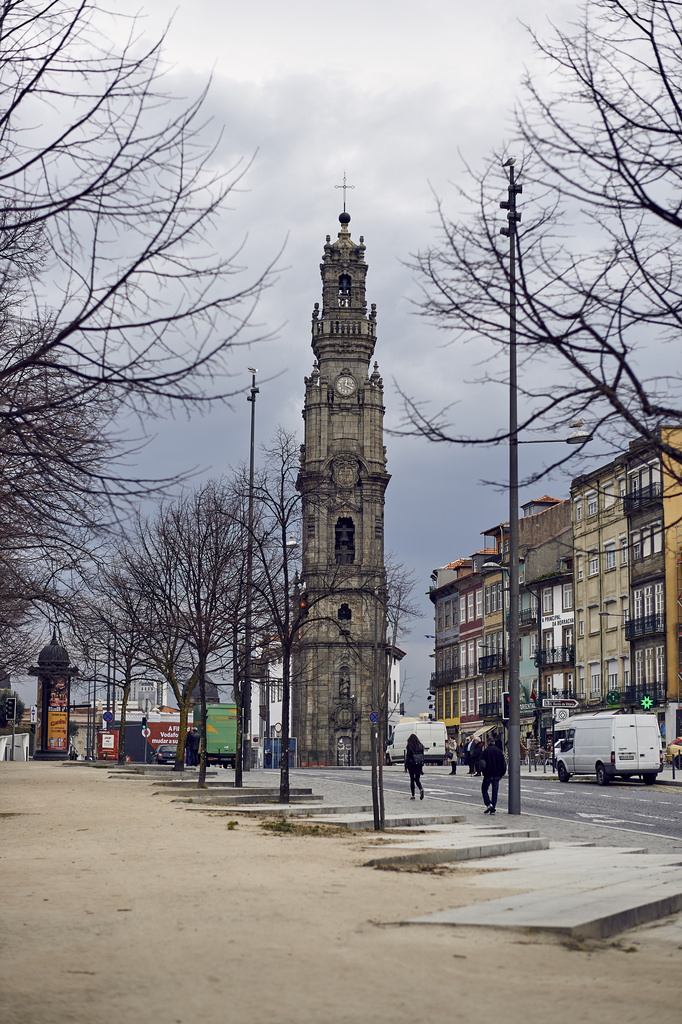clerigos: (285, 166, 394, 770)
